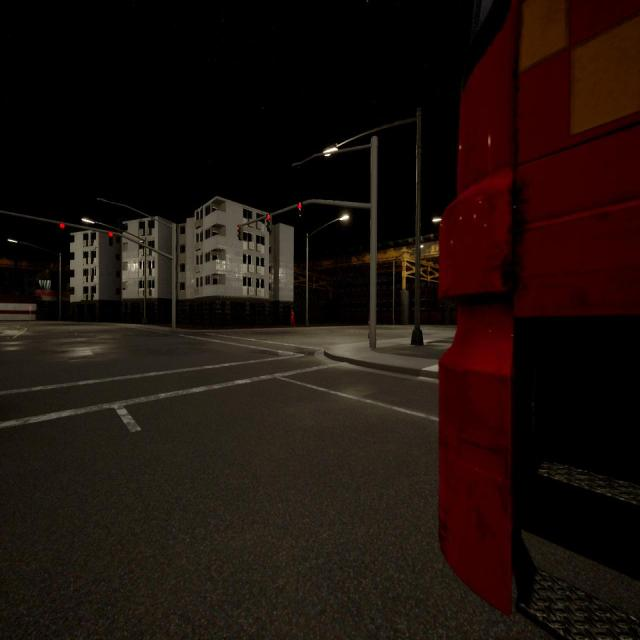Pedestrian: (291, 309, 295, 328)
Traffic_Signs: (28, 306, 33, 311)
Vehicle: (440, 0, 639, 612)
traffic_light: (267, 214, 272, 231), (238, 225, 243, 240), (298, 202, 302, 216), (109, 232, 113, 246), (60, 222, 64, 235)
